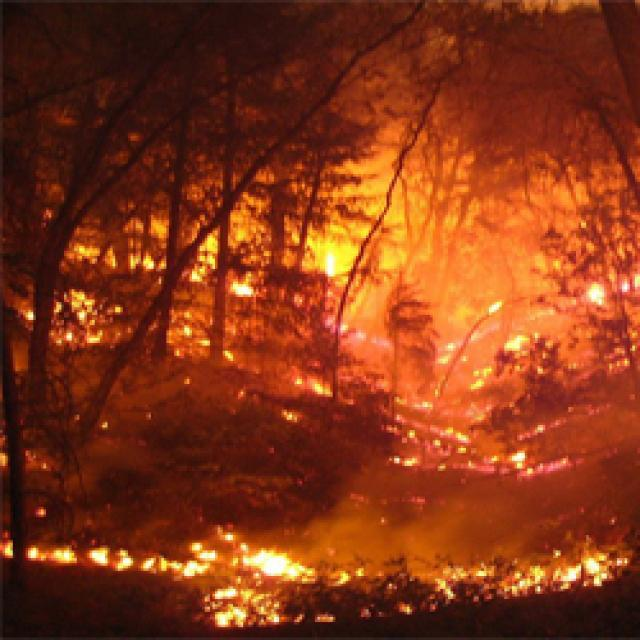Fire: (0, 528, 630, 626), (172, 220, 260, 364), (390, 422, 530, 476), (588, 256, 640, 374), (39, 286, 107, 347), (498, 328, 556, 376), (290, 369, 334, 397), (391, 394, 436, 414), (468, 364, 494, 393), (26, 455, 50, 476), (315, 252, 338, 270), (26, 501, 47, 519), (284, 408, 302, 426), (23, 305, 36, 328), (0, 444, 10, 472), (108, 301, 121, 321)
Smoke: (356, 185, 577, 360)
